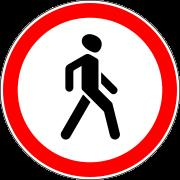Pedestrian Prohibited: (10, 6, 174, 173)
